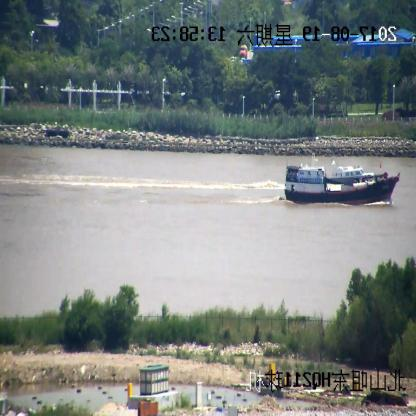Fishing Boat: (284, 155, 400, 204)
